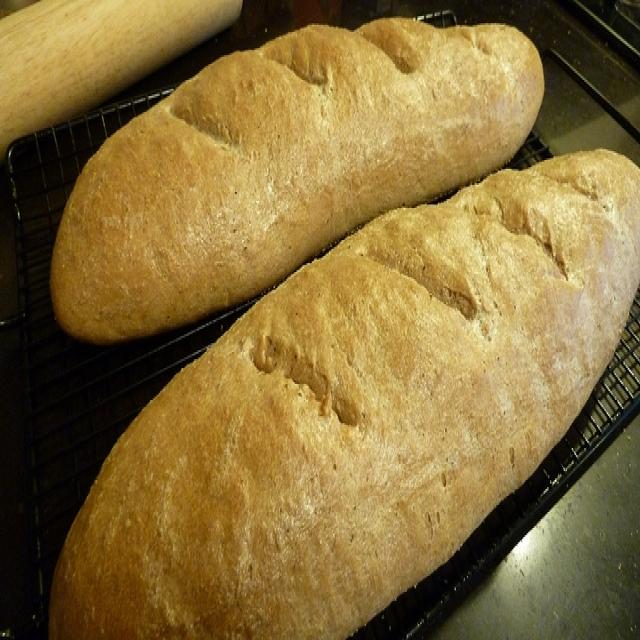面包点心: (10, 5, 620, 619)
